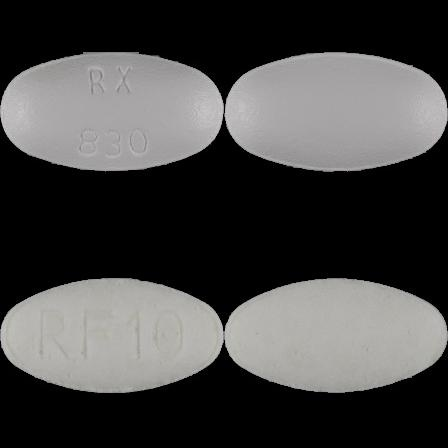63304-830: (0, 0, 224, 224)
